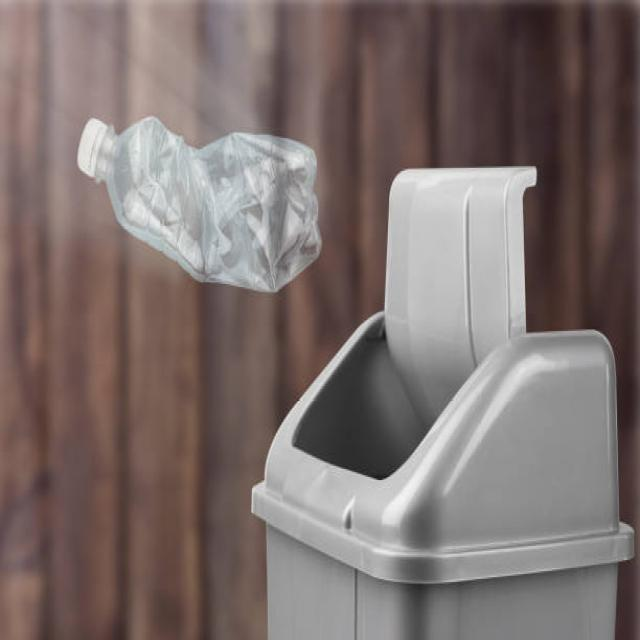plastic: (68, 107, 360, 295)
